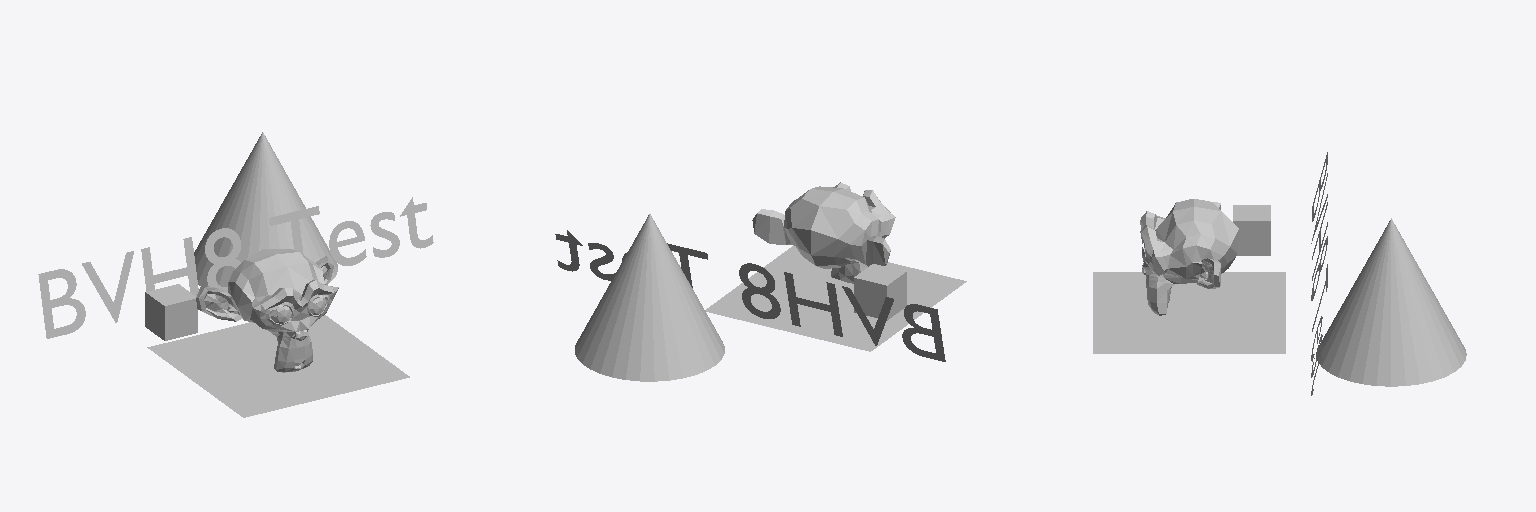
The model's file is testscene.obj.
3 views of the same model, side by side, from view 1: azimuth 30°, elevation 25°; view 2: azimuth 150°, elevation 25°; view 3: azimuth 270°, elevation 25° (orthographic).
Visible parts, largest first — view 1: Plane, Suzanne, Cone, Text, Cube; view 2: Cone, Plane, Suzanne, Text, Cube; view 3: Cone, Plane, Suzanne, Cube, Text.
Boxes of the visible parts, box(x1,y1,x2,y2) form: Plane: box(147, 315, 409, 417); Suzanne: box(196, 249, 338, 372); Cone: box(194, 132, 337, 286); Text: box(38, 197, 433, 338); Cube: box(145, 284, 197, 340); Cone: box(575, 214, 724, 381); Plane: box(705, 245, 966, 351); Suzanne: box(752, 182, 895, 283); Text: box(555, 230, 945, 361); Cube: box(854, 264, 906, 320); Cone: box(1316, 218, 1466, 386); Plane: box(1093, 272, 1285, 353); Suzanne: box(1140, 199, 1238, 315); Cube: box(1233, 205, 1270, 255); Text: box(1311, 152, 1327, 395).
Bounding box in the file's own units: 23.17 × 7.82 × 19.36.